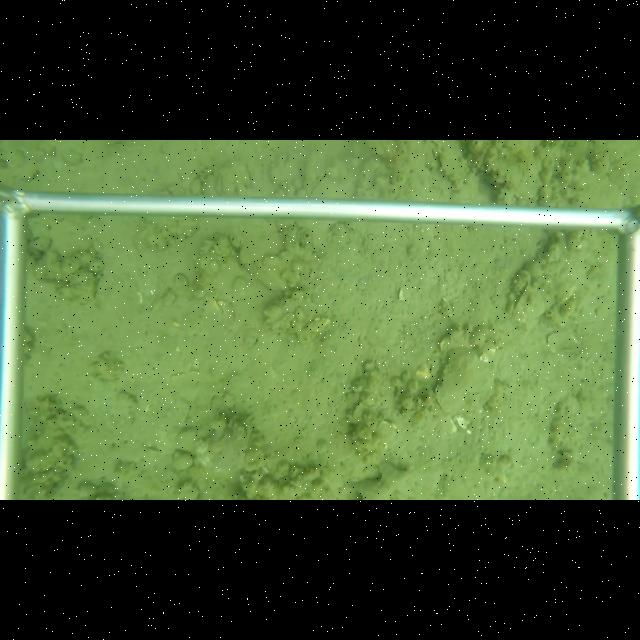Oyster-Closed: (430, 346, 497, 414), (438, 146, 470, 189)
Oyster-Open: (507, 274, 537, 320)
